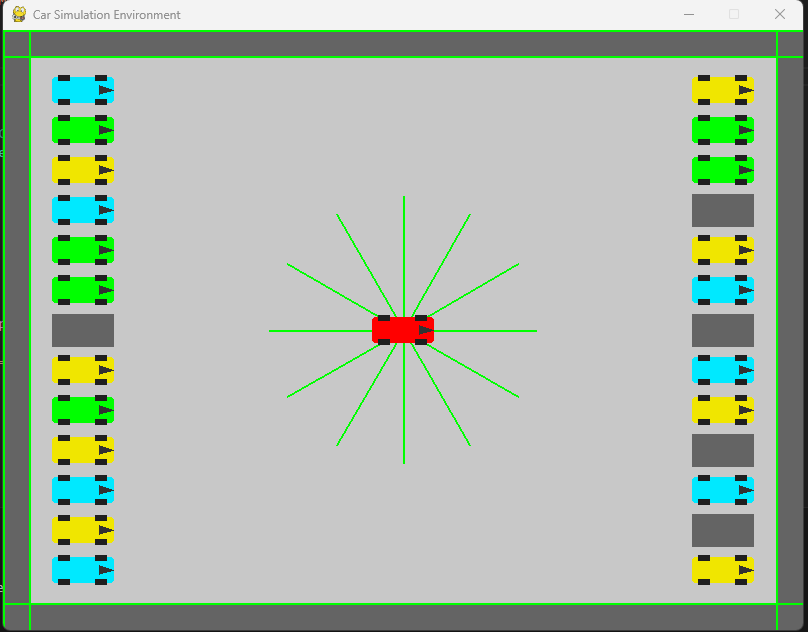ControlledCar: (374, 315, 436, 346)
ParkedCar: (46, 230, 122, 272), (47, 69, 119, 108), (52, 390, 115, 433), (48, 150, 116, 189), (51, 350, 117, 390), (49, 272, 118, 309), (687, 71, 756, 108), (48, 193, 119, 228), (51, 432, 121, 467), (687, 233, 757, 267), (688, 472, 757, 506), (685, 392, 756, 425), (690, 154, 757, 188), (688, 113, 757, 146), (48, 115, 119, 147), (49, 512, 115, 546), (50, 472, 114, 507), (688, 353, 755, 386), (688, 274, 756, 306), (687, 555, 755, 586), (49, 553, 114, 585)
ParkingSpot: (683, 430, 762, 471), (685, 191, 760, 232), (688, 509, 758, 551), (48, 313, 123, 350), (688, 314, 758, 348)
